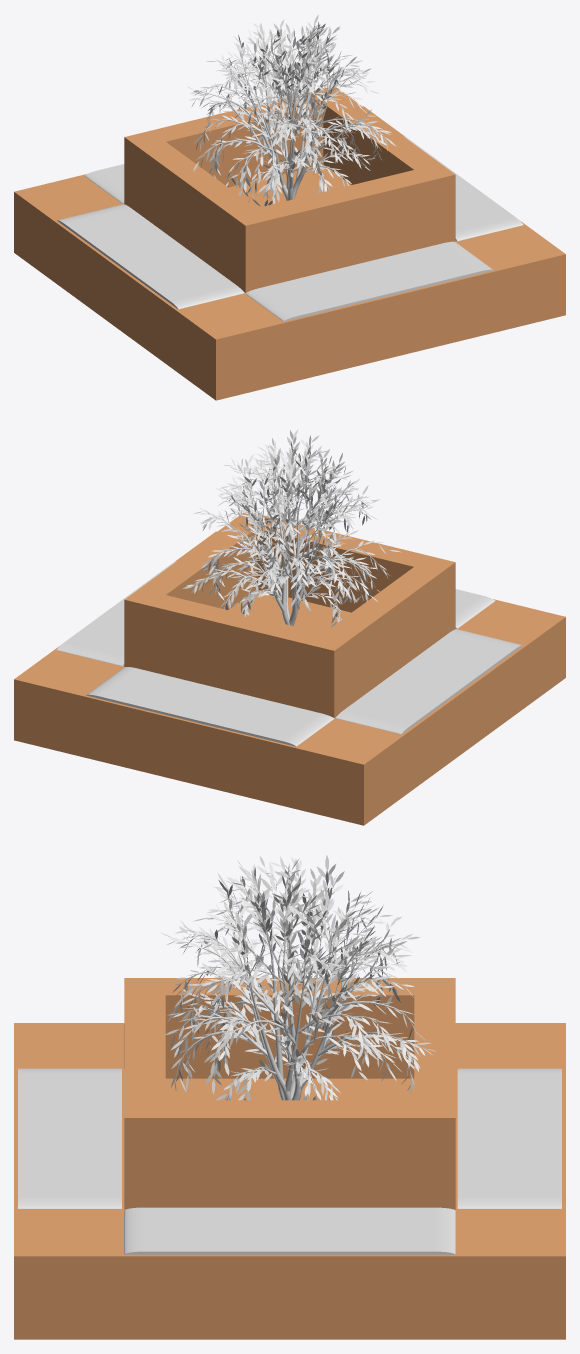
The model's file is 3층중앙나무의자.fbx.
3 views of the same model, one above another, from view 1: azimuth 30°, elevation 25°; view 2: azimuth 150°, elevation 25°; view 3: azimuth 270°, elevation 25° (orthographic). The views are drawn at different scales.
Parts seen in each view (by area): view 1: Cube, leaves, tree; view 2: Cube, leaves, tree; view 3: Cube, leaves, tree.
Boxes of the visible parts, x1,y1,x2,y2 form: Cube: [14, 87, 565, 400]; leaves: [187, 15, 396, 206]; tree: [195, 29, 388, 204]; Cube: [14, 512, 565, 825]; leaves: [182, 429, 401, 627]; tree: [197, 447, 385, 625]; Cube: [14, 978, 565, 1339]; leaves: [160, 855, 436, 1100]; tree: [176, 869, 423, 1100].
Size of the model in its own units: 1200 by 875 by 1200.
